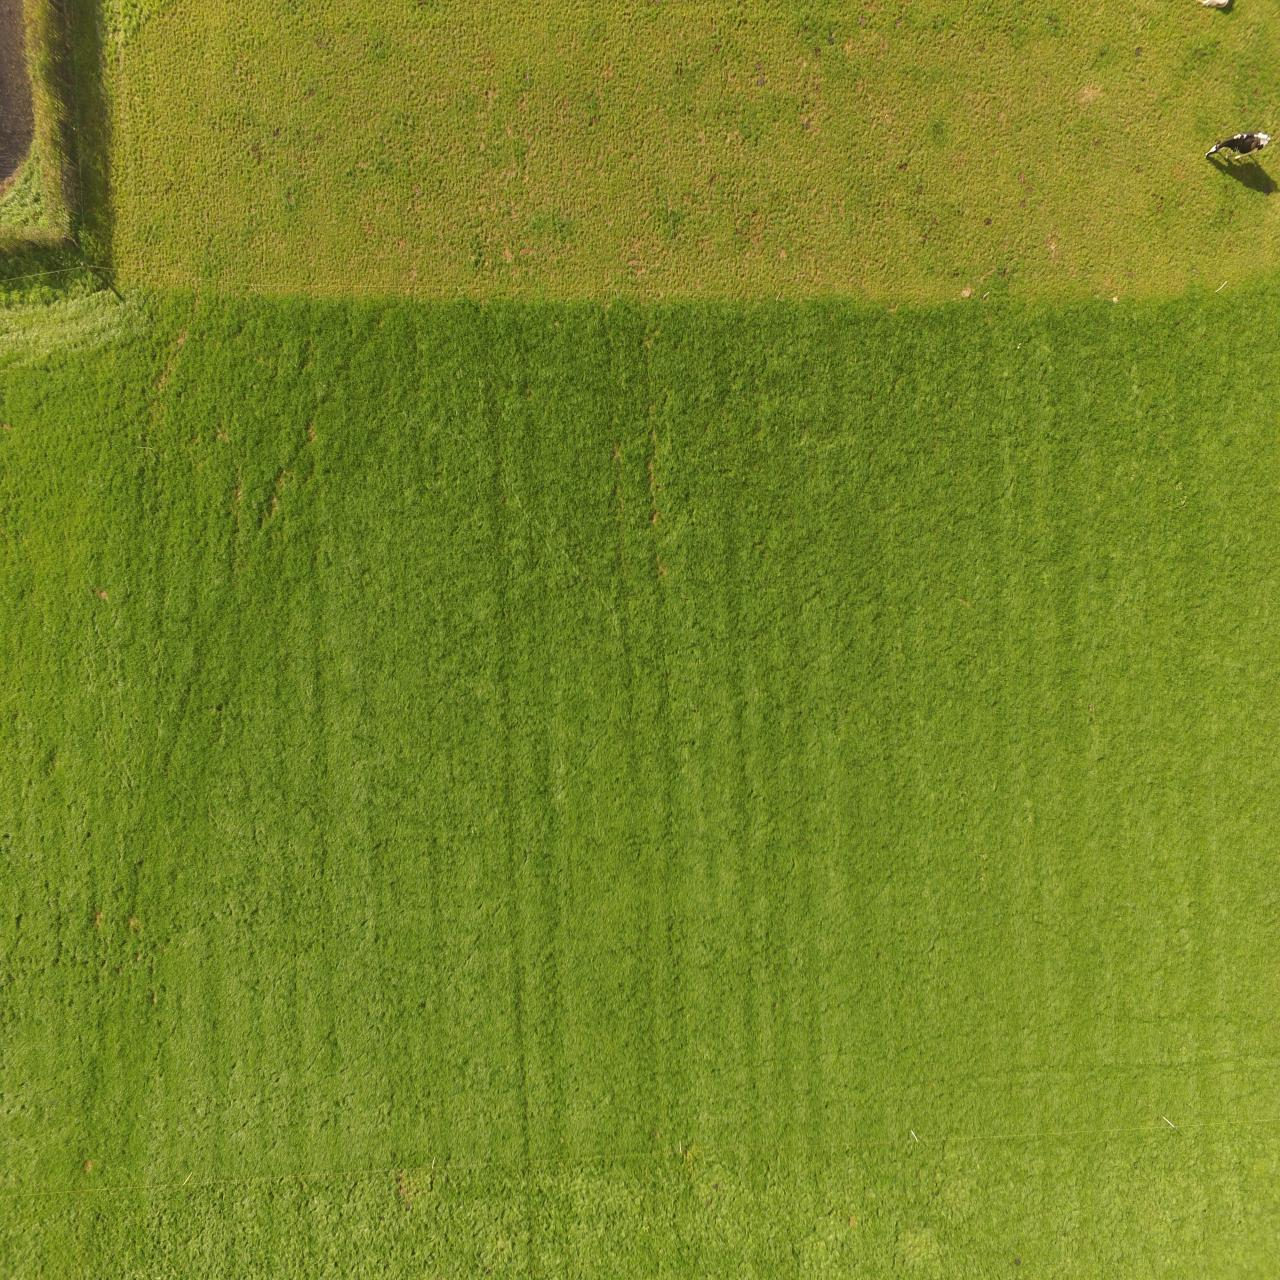cow: (1204, 129, 1271, 159)
